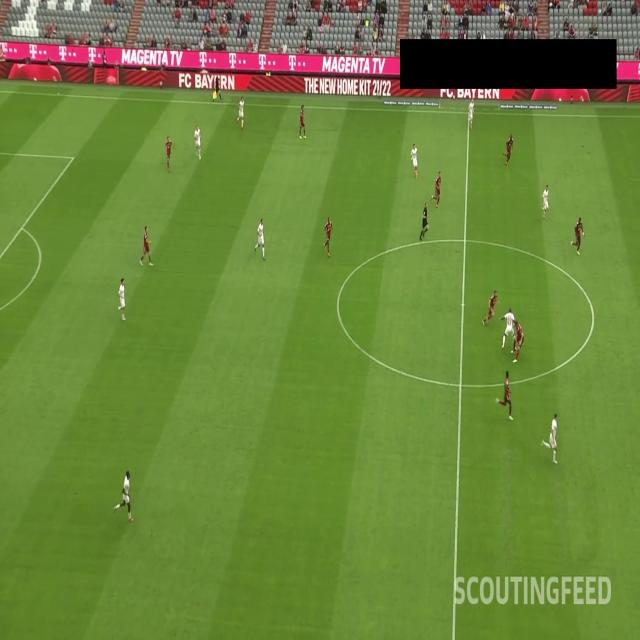ball: (512, 330, 518, 347)
player: (111, 465, 136, 521), (540, 408, 563, 464), (495, 365, 516, 425), (499, 303, 516, 360), (478, 284, 499, 328), (509, 316, 526, 364), (138, 220, 154, 270), (570, 212, 588, 256), (114, 274, 128, 324), (254, 219, 269, 265), (430, 166, 444, 213), (538, 179, 553, 222), (320, 214, 334, 260), (408, 142, 422, 179), (296, 99, 308, 141), (502, 130, 515, 168), (193, 121, 204, 161), (164, 133, 174, 177), (235, 93, 246, 129), (468, 96, 475, 130)
referee: (208, 69, 226, 104), (418, 204, 431, 240)
